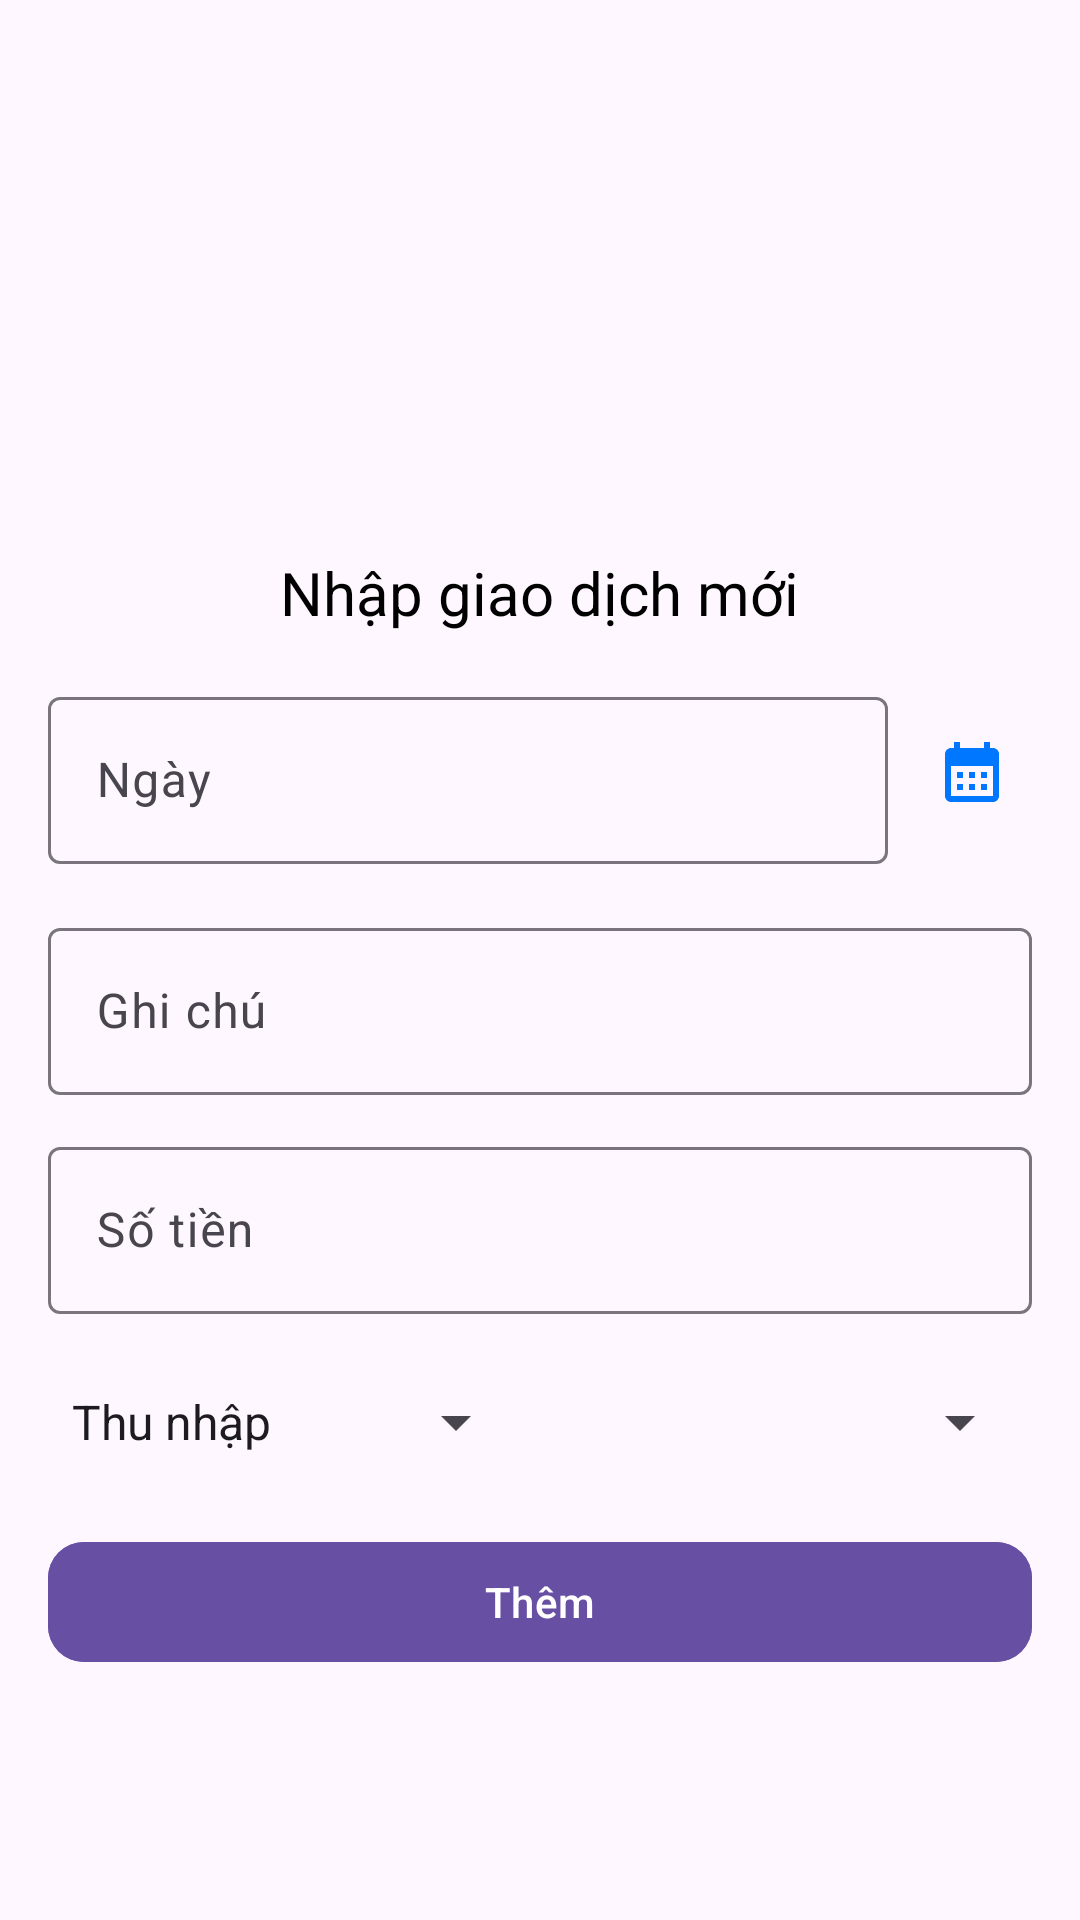

Icons on this 1080 × 1920 Android screen, each with its box as (x1, y1, x2, y2):
Calendar: (945, 742, 999, 802)
